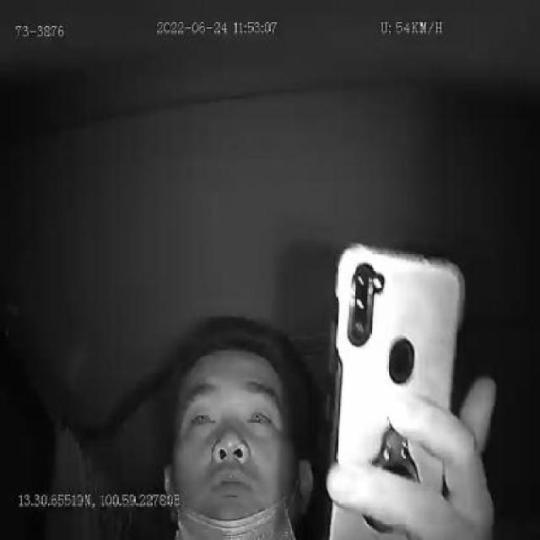phone: (327, 239, 467, 540)
